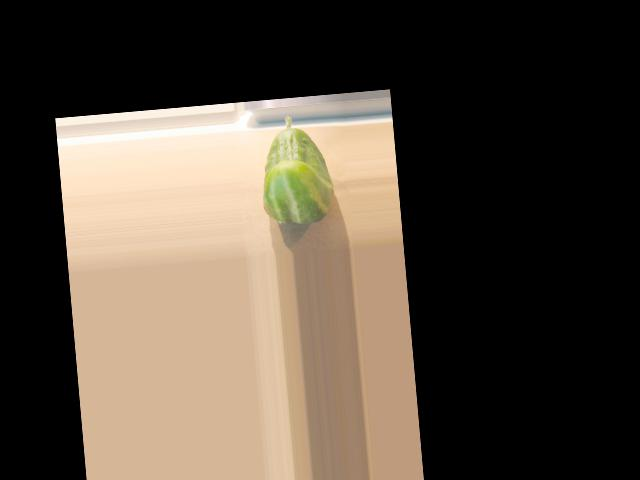cucumber: (255, 112, 335, 227)
